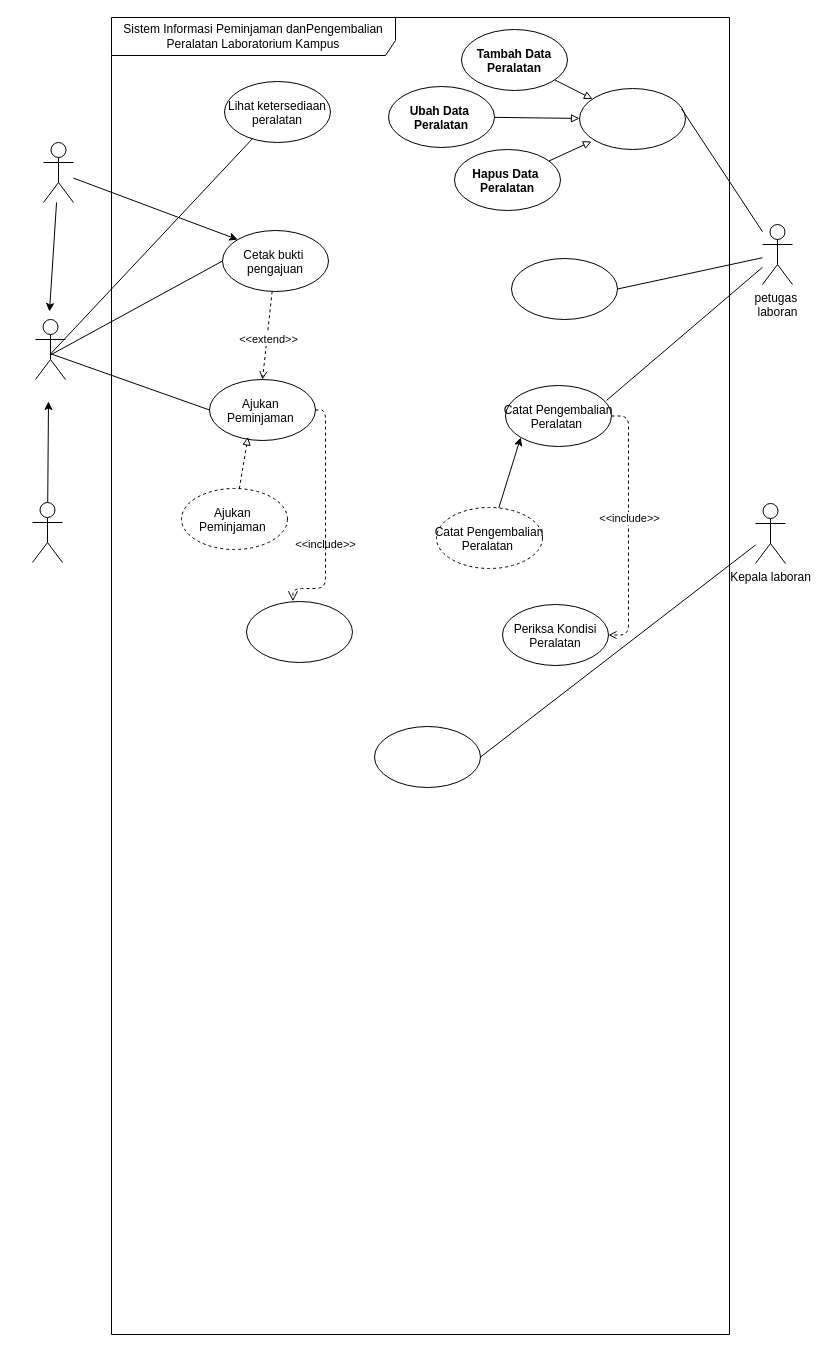
The diagram is 828 pixels wide and 1352 high, and some of its shapes have lost their labels. Here are the shapes that lost their labels. From the top down, the centre of each, then its label:
[632,119]: Kelola data peralatan
[58,172]: dosen
[564,289]: Proses keputusan peminjaman
[50,349]: peminjam
[47,532]: mahasiswa
[299,631]: Periksa ketersediaan
[427,757]: Lihat laporan peminjaman
